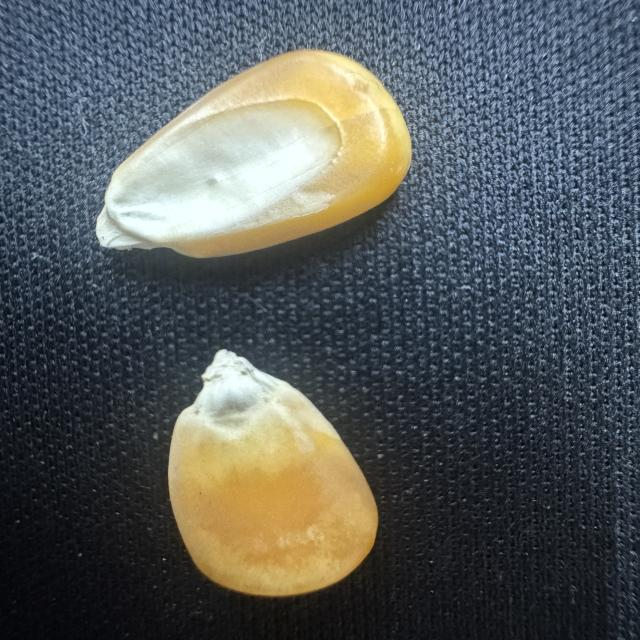Good-Seed: (90, 45, 417, 263), (161, 346, 385, 602)
